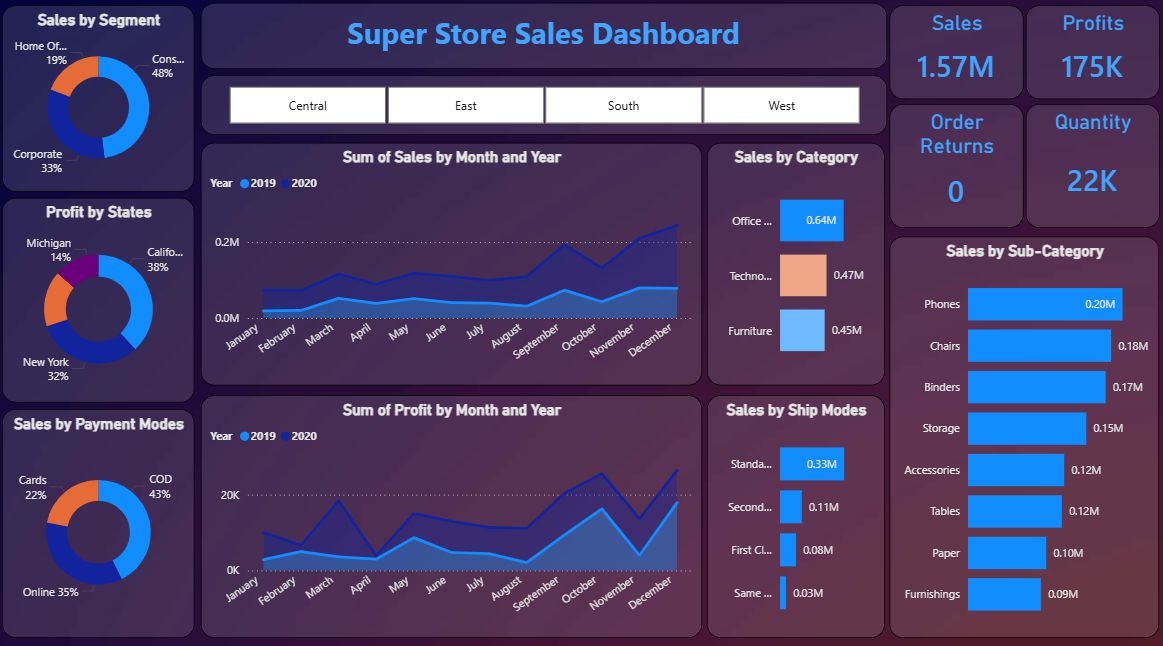

What the dashboard file says about the page in this screenshot:
{"tool":"powerbi","page":{"name":"Page 1","canvas":[1280,720],"ordinal":0},"visuals":[{"type":"clusteredBarChart","title":"Sales by Category","fields":{"Category":["SuperStore_Sales_Dataset.Category"],"Y":["Sum(SuperStore_Sales_Dataset.Sales)"]},"box":[779.4,163.3,194.9,266.2],"z":0},{"type":"clusteredBarChart","title":"Sales by Sub-Category","fields":{"Category":["SuperStore_Sales_Dataset.Sub-Category"],"Y":["Sum(SuperStore_Sales_Dataset.Sales)"]},"box":[979.8,266.2,296.4,440.5],"z":1000},{"type":"clusteredBarChart","title":"Sales by Ship Modes","fields":{"Category":["SuperStore_Sales_Dataset.Ship Mode"],"Y":["Sum(SuperStore_Sales_Dataset.Sales)"]},"box":[779.4,440.5,194.9,266.2],"z":2000},{"type":"stackedAreaChart","fields":{"Y":["Sum(SuperStore_Sales_Dataset.Sales)"],"Series":["SuperStore_Sales_Dataset.Order Date.Variation.Date Hierarchy.Year"],"Category":["SuperStore_Sales_Dataset.Order Date.Variation.Date Hierarchy.Month","SuperStore_Sales_Dataset.Order Date.Variation.Date Hierarchy.Day"]},"box":[223.7,163.3,550.3,266.2],"z":3000},{"type":"stackedAreaChart","fields":{"Series":["SuperStore_Sales_Dataset.Order Date.Variation.Date Hierarchy.Year"],"Category":["SuperStore_Sales_Dataset.Order Date.Variation.Date Hierarchy.Month","SuperStore_Sales_Dataset.Order Date.Variation.Date Hierarchy.Day"],"Y":["Sum(SuperStore_Sales_Dataset.Profit)"]},"box":[223.7,440.5,550.3,266.2],"z":4000},{"type":"donutChart","title":"Sales by Segment","fields":{"Category":["SuperStore_Sales_Dataset.Segment"],"Y":["Sum(SuperStore_Sales_Dataset.Sales)"]},"box":[5.5,12.3,211.3,204.5],"z":5000},{"type":"donutChart","title":"Profit by States","fields":{"Category":["SuperStore_Sales_Dataset.State"],"Y":["Sum(SuperStore_Sales_Dataset.Profit)"]},"box":[5.5,223.7,211.3,225],"z":6000},{"type":"donutChart","title":"Sales by Payment Modes","fields":{"Category":["SuperStore_Sales_Dataset.Payment Mode"],"Y":["Sum(SuperStore_Sales_Dataset.Sales)"]},"box":[5.5,455.6,211.3,251.1],"z":7000},{"type":"slicer","fields":{"Values":["SuperStore_Sales_Dataset.Region"]},"box":[223.7,89.2,753.3,65.9],"z":8000},{"type":"textbox","box":[223.7,9.6,753.3,72.7],"z":9000},{"type":"cardVisual","title":"Sales","fields":{"Data":["Sum(SuperStore_Sales_Dataset.Sales)"]},"box":[979.8,12.3,146.8,102.9],"z":10000},{"type":"cardVisual","title":"Profits","fields":{"Data":["Sum(SuperStore_Sales_Dataset.Profit)"]},"box":[1129.3,12.3,146.8,102.9],"z":11000},{"type":"cardVisual","title":"Order Returns","fields":{"Data":["Min(SuperStore_Sales_Dataset.Returns)"]},"box":[979.8,120.8,146.8,135.8],"z":12000},{"type":"cardVisual","title":"Quantity","fields":{"Data":["Sum(SuperStore_Sales_Dataset.Quantity)"]},"box":[1129.3,120.8,146.8,135.8],"z":13000}]}

Visuals, with their boxes in screenshot pixels (x1, y1, x2, y2), scaled from the page's 1280x720 canvas onto the 1163x646 screenshot:
"Sales by Category" clusteredBarChart: locate(708, 147, 885, 385)
"Sales by Sub-Category" clusteredBarChart: locate(890, 239, 1160, 634)
"Sales by Ship Modes" clusteredBarChart: locate(708, 395, 885, 634)
stackedAreaChart - Sum(SuperStore_Sales_Dataset.Sales) x SuperStore_Sales_Dataset.Order Date.Variation.Date Hierarchy.Year: locate(203, 147, 703, 385)
stackedAreaChart - SuperStore_Sales_Dataset.Order Date.Variation.Date Hierarchy.Year x SuperStore_Sales_Dataset.Order Date.Variation.Date Hierarchy.Month: locate(203, 395, 703, 634)
"Sales by Segment" donutChart: locate(5, 11, 197, 195)
"Profit by States" donutChart: locate(5, 201, 197, 403)
"Sales by Payment Modes" donutChart: locate(5, 409, 197, 634)
slicer - SuperStore_Sales_Dataset.Region: locate(203, 80, 888, 139)
textbox: locate(203, 9, 888, 74)
"Sales" cardVisual: locate(890, 11, 1024, 103)
"Profits" cardVisual: locate(1026, 11, 1159, 103)
"Order Returns" cardVisual: locate(890, 108, 1024, 230)
"Quantity" cardVisual: locate(1026, 108, 1159, 230)
